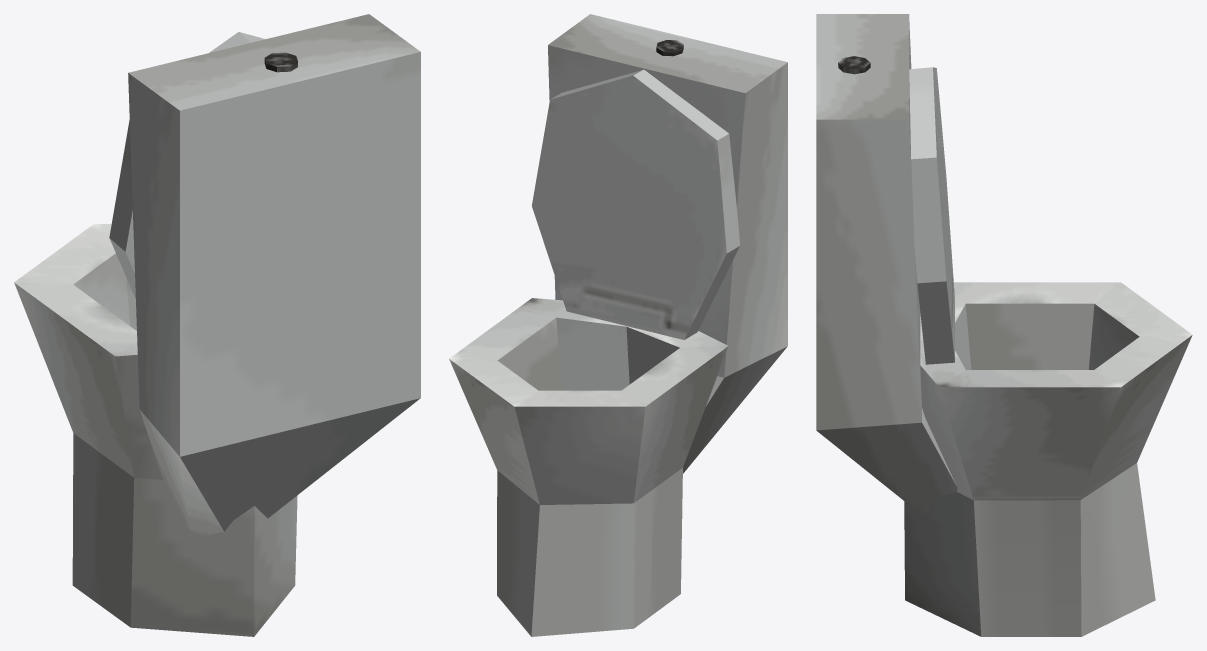
File: toilette.fbx
3 renders of one model, left to right at view 1: azimuth 30°, elevation 25°; view 2: azimuth 150°, elevation 25°; view 3: azimuth 270°, elevation 25°, orthographic. The views are drawn at different scales.
Visible parts, largest first — view 1: Circle; view 2: Circle; view 3: Circle.
Part boxes in pixels (box(x1,y1,x2,y2)): Circle: box(14, 14, 420, 636); Circle: box(449, 14, 787, 636); Circle: box(816, 14, 1192, 636).
Bounding box in the file's own units: 176 × 413 × 262.
